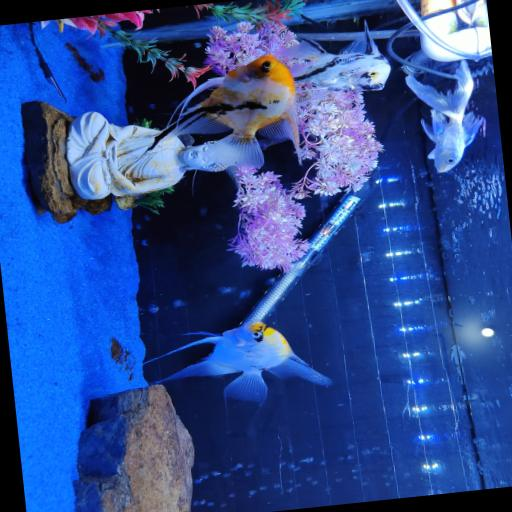Fish: (158, 54, 299, 168), (144, 321, 331, 402), (405, 59, 483, 171), (277, 21, 389, 98)
